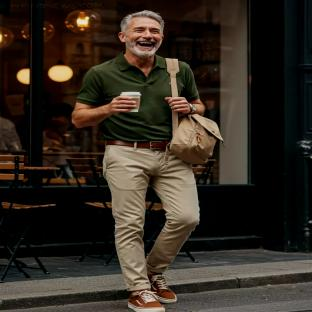Human: (72, 10, 205, 312)
